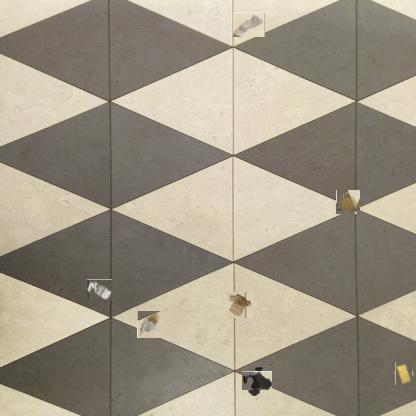dirty: (233, 12, 265, 37), (137, 310, 164, 338), (226, 292, 254, 318), (86, 279, 112, 300), (394, 363, 414, 384)
liquid: (245, 369, 270, 393), (336, 190, 360, 214)
